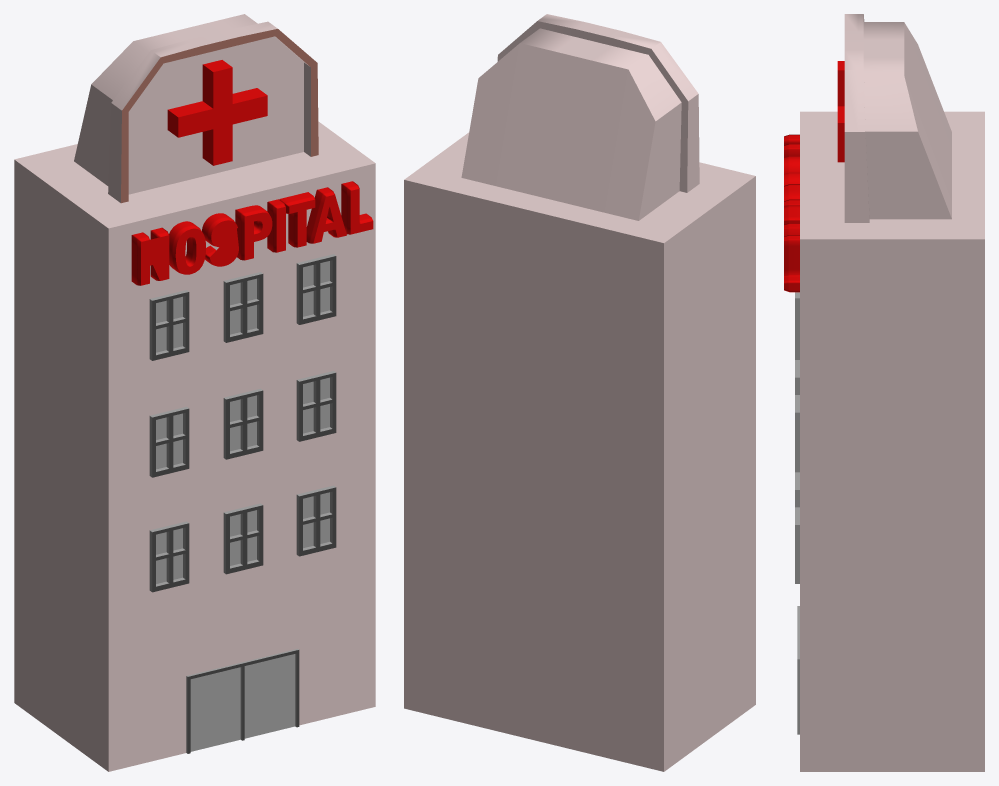
File: Hospital.fbx
The picture shows the model from 3 angles, left to right: view 1: azimuth 30°, elevation 25°; view 2: azimuth 150°, elevation 25°; view 3: azimuth 270°, elevation 25°; orthographic projection. The views are drawn at different scales.
Visible parts, largest first — view 1: polySurface1; view 2: polySurface1; view 3: polySurface1.
Boxes of the visible parts, x1,y1,x2,y2 form: polySurface1: [14, 14, 375, 771]; polySurface1: [404, 14, 755, 771]; polySurface1: [784, 14, 984, 771].
Size of the model in its own units: 159 by 388 by 106.
